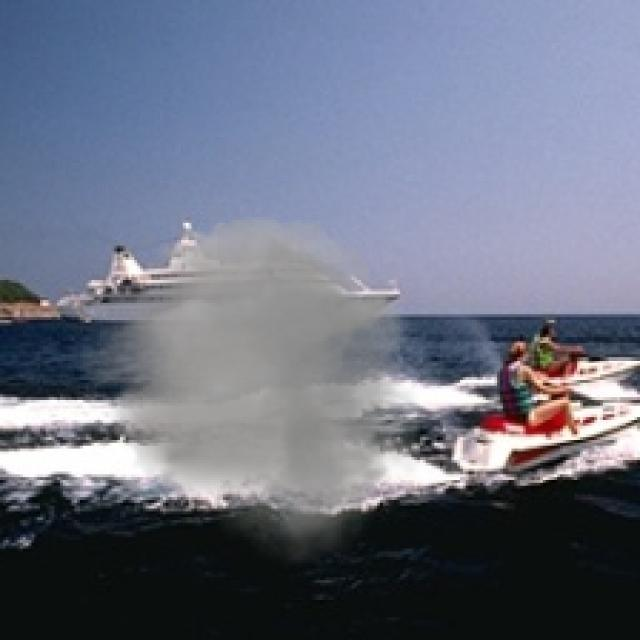Smoke: (66, 208, 437, 566)
